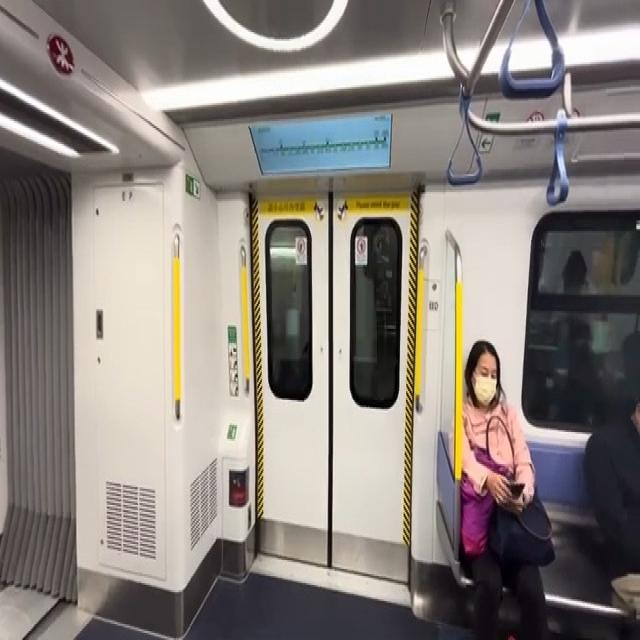bus-door: (245, 186, 423, 601)
